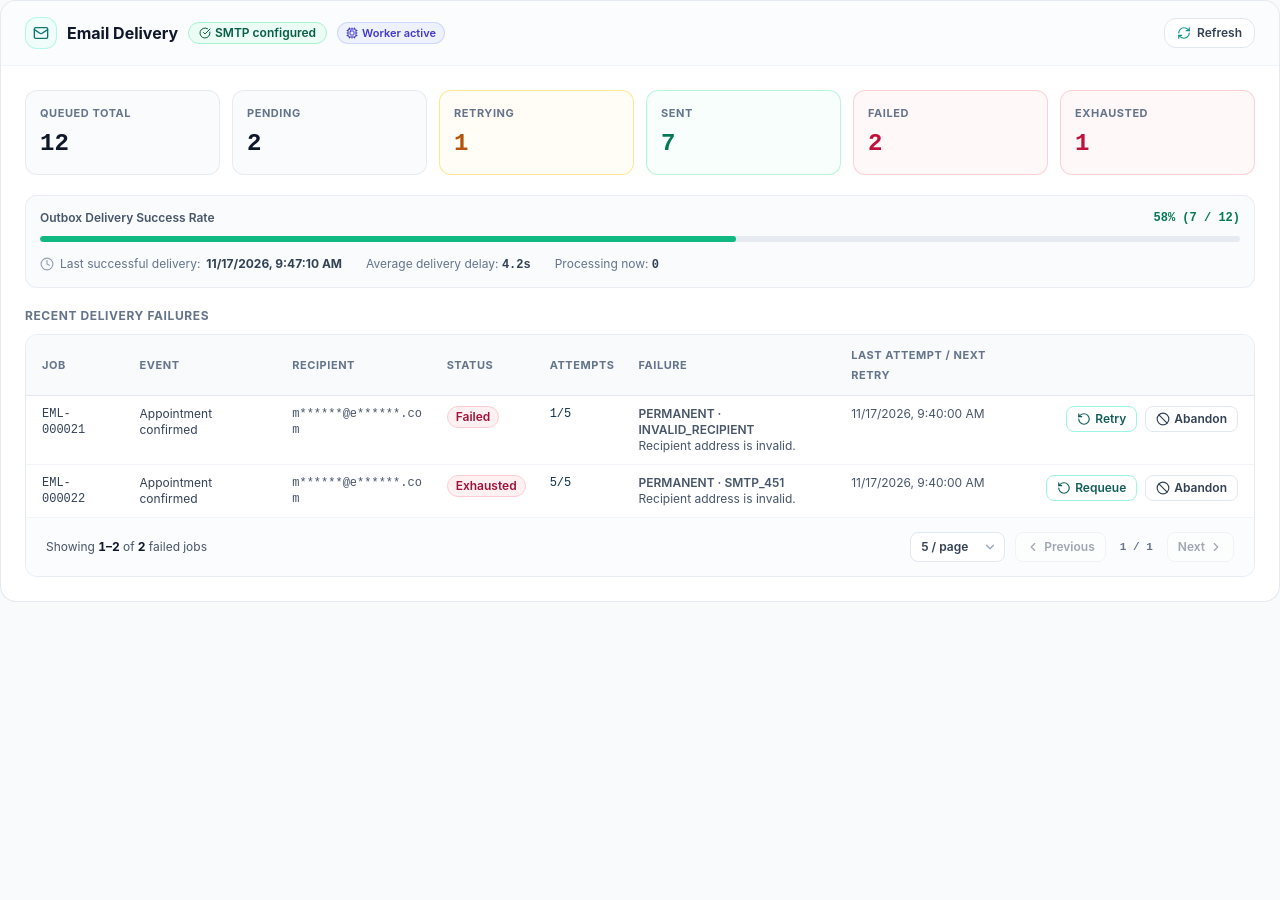
Test: EmailDeliveryPanel › retries a failed job and reloads
This screenshot has width=1280, height=900.
Click the button with aria-label "Retry EML-000021" at {"x": 1102, "y": 418}, box [1066,406,1137,432]
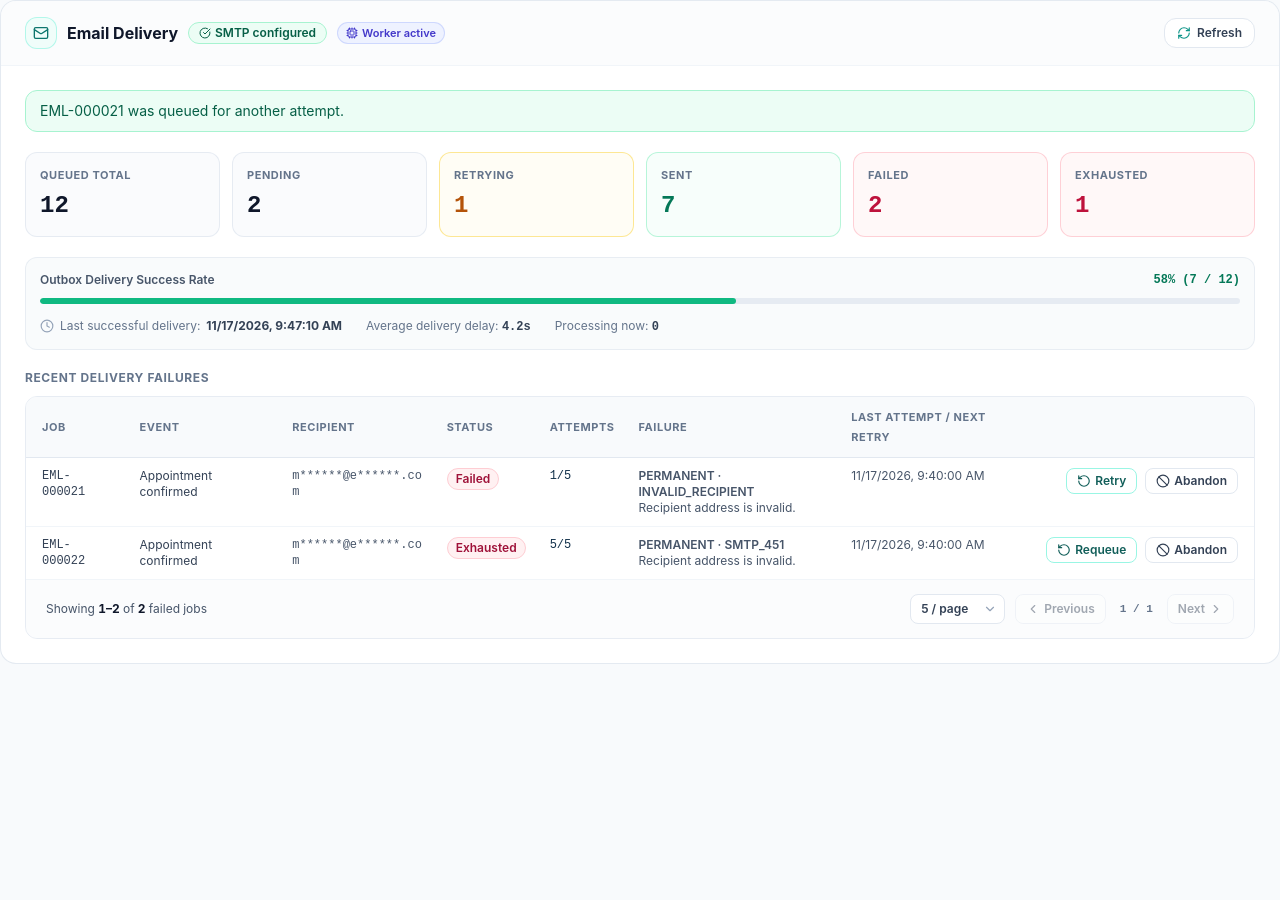
Expected: the text "EML-000021 was queued for another attempt." is shown, [25,90,1255,132]
